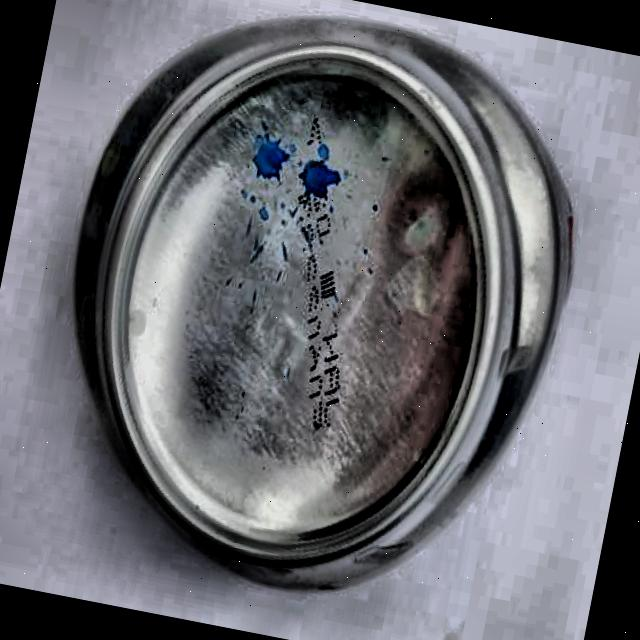metal: (21, 0, 605, 633)
